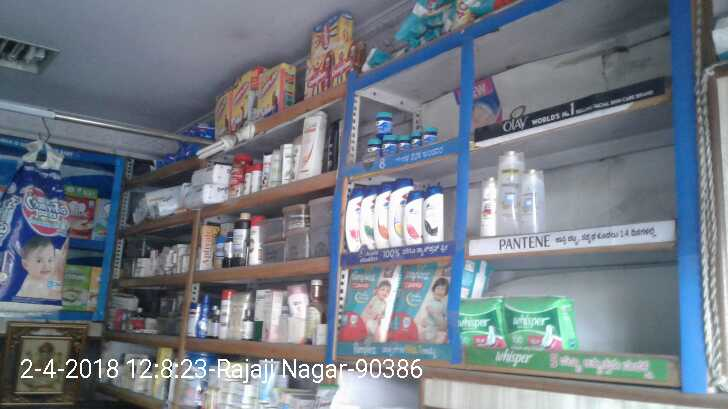vicks: (364, 112, 438, 159)
